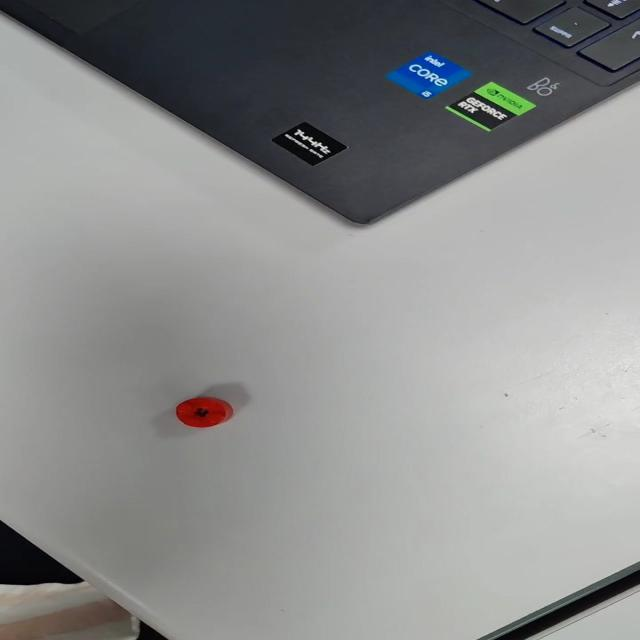S2x2x1: (172, 391, 240, 429)
